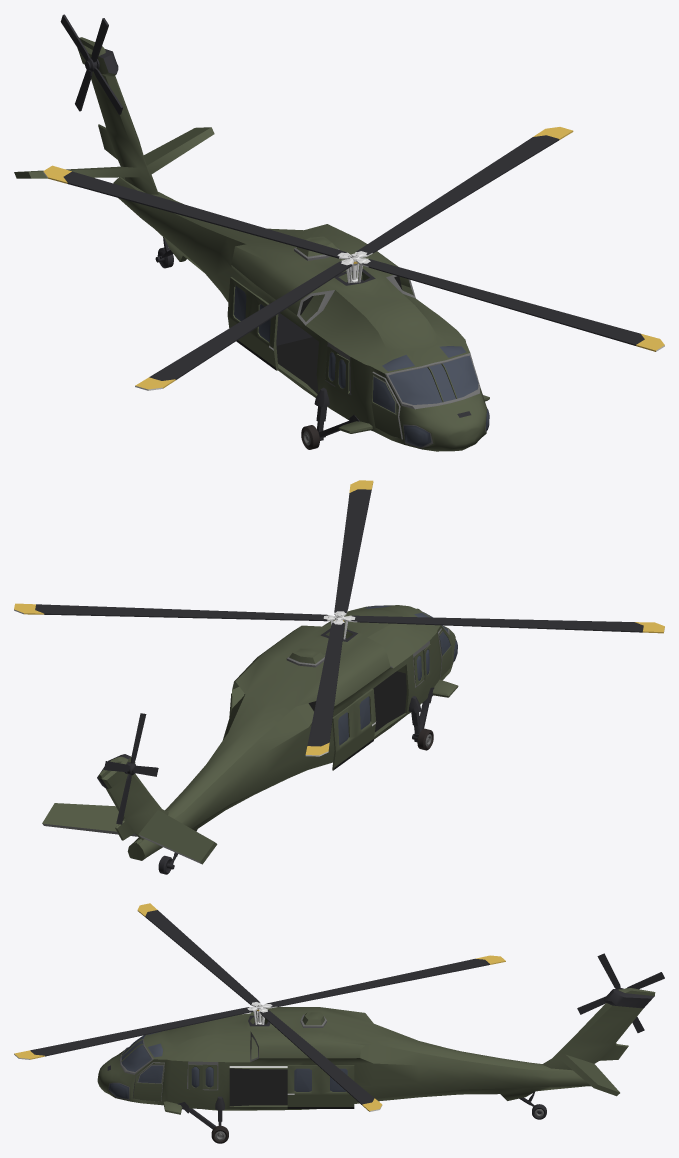
Rendered from helicopter.fbx.
The picture shows the model from 3 angles, top to bottom: view 1: azimuth 30°, elevation 25°; view 2: azimuth 150°, elevation 25°; view 3: azimuth 270°, elevation 25°; orthographic projection. The views are drawn at different scales.
Visible parts, largest first — view 1: chopper body, Rotor Principal, rotor de cauda; view 2: chopper body, Rotor Principal, rotor de cauda; view 3: chopper body, Rotor Principal, rotor de cauda.
Part boxes in pixels (x1,y1,x2,y2): chopper body: (14,37,489,451); Rotor Principal: (43,127,664,390); rotor de cauda: (60,14,123,114); chopper body: (42,605,458,874); Rotor Principal: (14,480,664,756); rotor de cauda: (104,713,158,824); chopper body: (97,988,655,1143); Rotor Principal: (14,903,505,1111); rotor de cauda: (577,953,664,1032).
Bounding box in the file's own units: 1903 × 682 × 2519.
